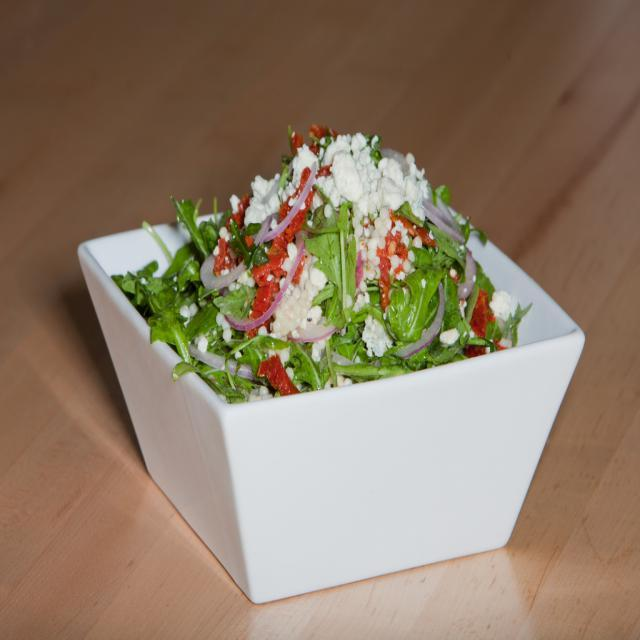Salad: (101, 131, 537, 417)
